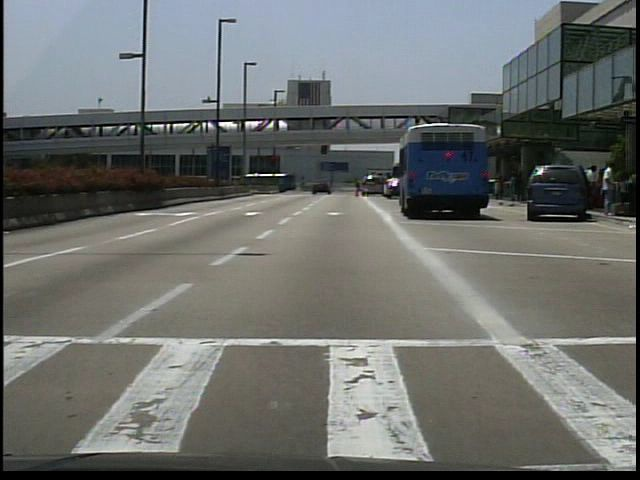person: (598, 162, 618, 218), (597, 165, 612, 214), (516, 168, 528, 204), (586, 164, 600, 182), (316, 182, 325, 197)
